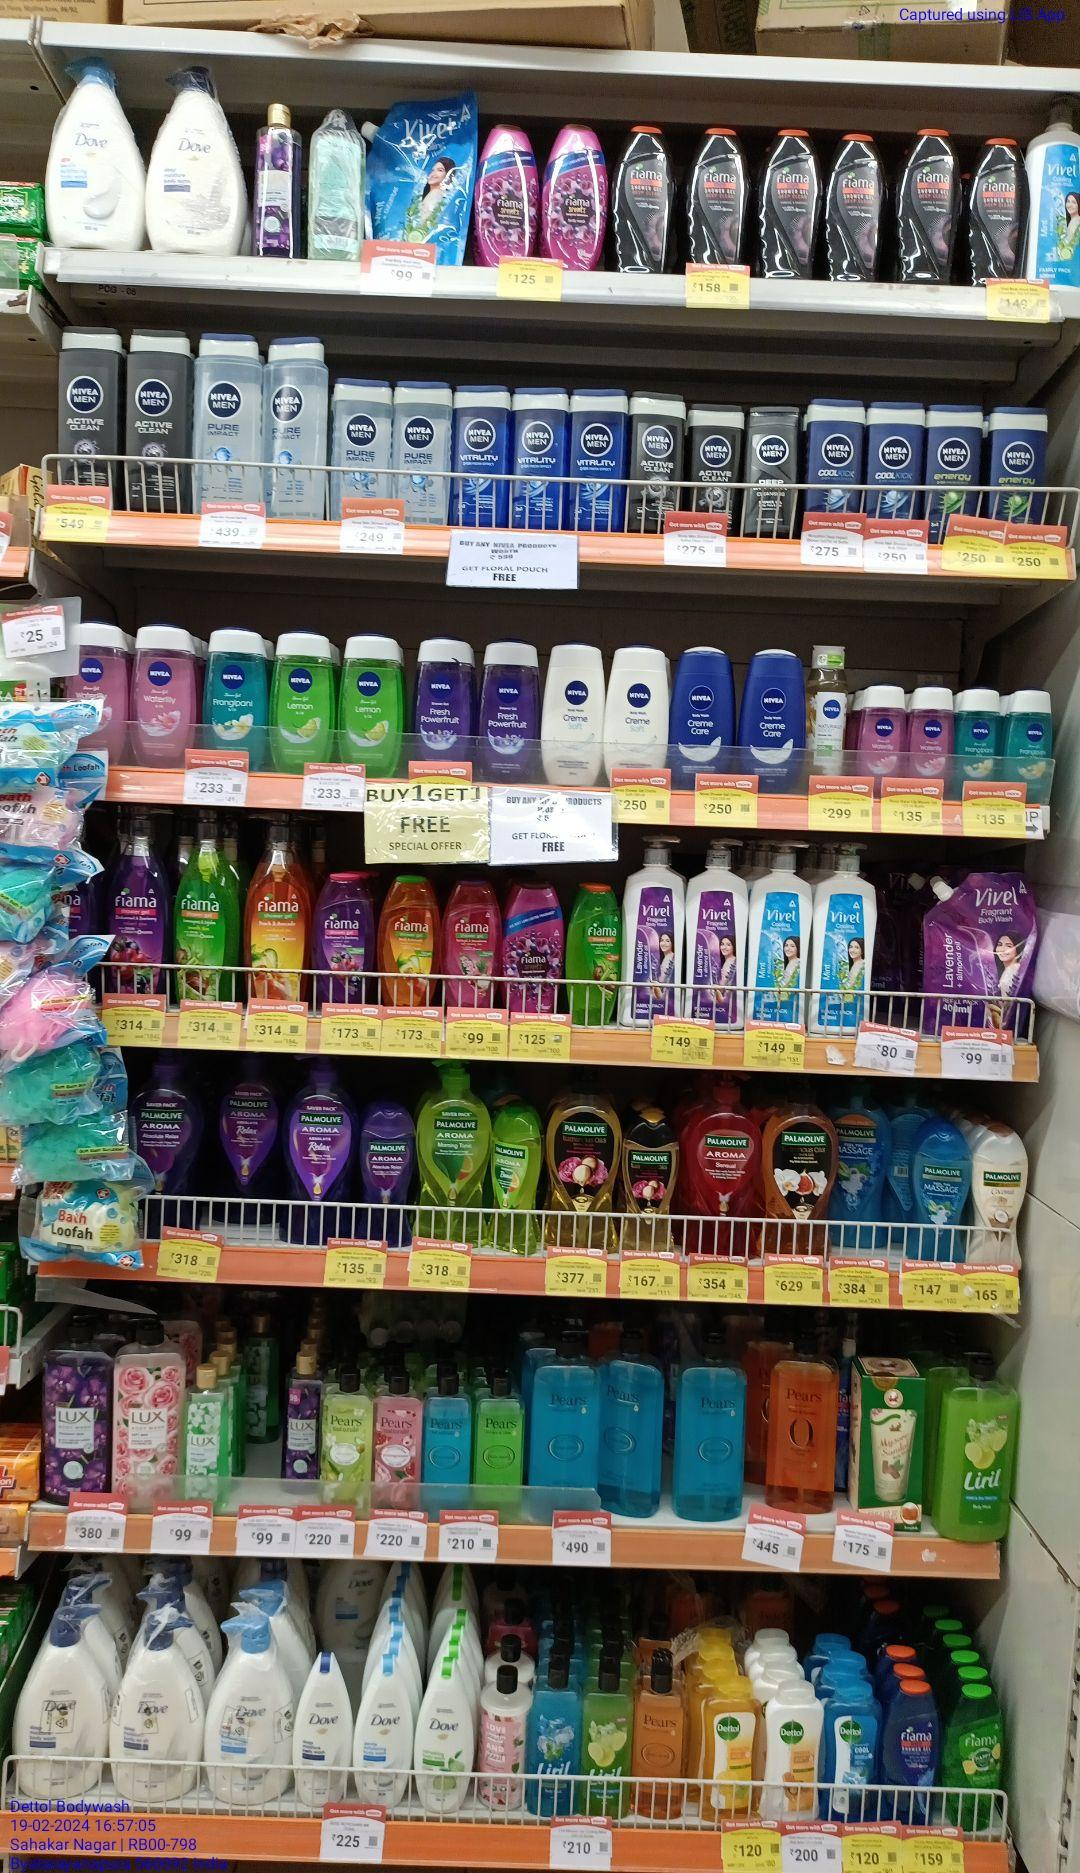Dettol_Bodywash_Cool: (823, 1679, 882, 1820)
Dettol_Bodywash_Refresh: (699, 1672, 762, 1819)
Dettol_Nourish_Body_Wash_250ML: (762, 1679, 823, 1820)
Dove_Deep_Moisture_Body_Wash_250ML: (291, 1649, 352, 1805)
Dove_Gentle_Exfoliating_Body_Wash_250ML: (352, 1652, 414, 1804)
Dove_Refreshing_Body_Wash_250ML: (415, 1653, 477, 1811)
Fiama_Shower_Gel_Lemongrass_and_Jojoba_250ML: (564, 880, 624, 1024)
Fiama_Shower_Gel_Patchouli_and_Macadamia_250ML: (441, 871, 499, 1007)
Fiama_Shower_Gel_Peach_and_Avocado_250ML: (373, 872, 444, 1009)
Liril_Cooling_Mint_Body_Wash_250ML: (528, 1658, 584, 1818)
Liril_Lime_and_Tea_Tree_Oil_Body_Wash_250ML: (582, 1661, 635, 1816)
Lux_Black_Orchid_Scent_and_Juniper_Oil_Body_Wash_245ML: (252, 99, 302, 255), (282, 1348, 320, 1492)
Lux_Body_Wash_Skin_Detox_Freesia_Scent_and_Alove_Vera_245ML: (181, 1362, 226, 1499)
Nivea_Creme_Care_Body_Wash_250ML: (738, 647, 805, 792), (670, 642, 734, 771)
Nivea_Creme_Soft_Body_Wash_250ML: (539, 637, 604, 786), (606, 642, 669, 768)
Nivea_Shower_Gel_Frangipani_and_Oil_250ML: (202, 623, 269, 749)
Nivea_Shower_Gel_Fresh_Powerfruit_250ML: (477, 637, 540, 780), (409, 635, 478, 759)
Nivea_Shower_Gel_Lemon_and_Oil_250ML: (336, 630, 405, 777), (267, 625, 337, 771)
Nivea_Shower_Gel_Waterlily_and_Oil_250ML: (130, 620, 195, 768)
Palmolive_Aroma_Moments_Feel_The_Massage_Shower_Gel_250ML: (908, 1120, 972, 1259)
Palmolive_Aroma_Morning_Tonic_Shower_Gel_250ML: (490, 1102, 543, 1257)
Palmolive_Aroma_Relax_250ML: (357, 1100, 415, 1239)
Palmolive_Coconut_Joy_Exfoliating_Body_Wash_250ML: (969, 1120, 1030, 1262)
Palmolive_Luminous_Oils_Invigorating_Macadamia_Oil_With_Peony_250ML: (620, 1110, 680, 1252)
Pears_Naturale_Aloe_Vera_Body_Wash_250ML: (319, 1367, 375, 1506)
Pears_Pure_Glycerin_and_Lemon_Flower_Extracts_Body_Wash_250ML: (472, 1375, 526, 1509)
Pears_Pure_Glycerin_and_Mint_Extracts_Body_Wash_250ML: (423, 1367, 472, 1508)
